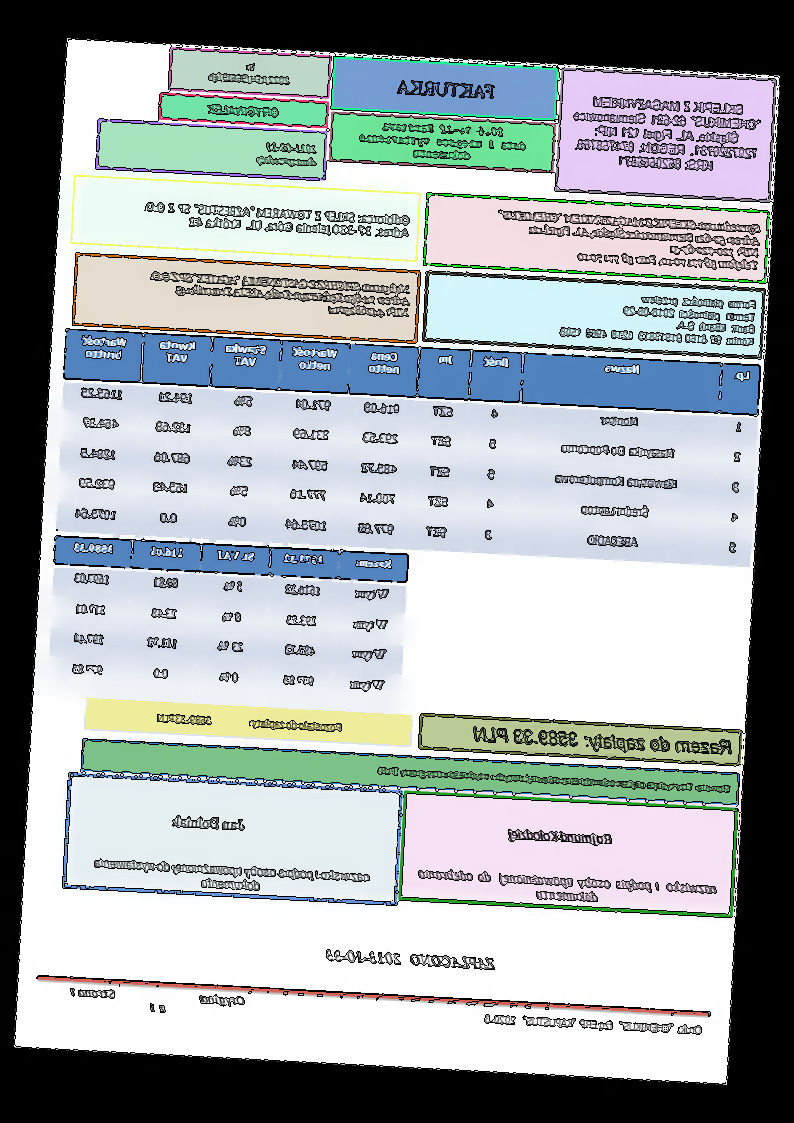Table: (54, 327, 762, 569), (46, 533, 410, 706)
TextBox: (492, 207, 765, 274), (568, 93, 764, 176), (146, 268, 413, 321), (416, 867, 719, 910), (93, 854, 372, 899), (559, 288, 760, 348), (376, 764, 734, 796), (141, 199, 413, 241), (470, 722, 736, 758), (356, 118, 529, 166), (67, 985, 247, 1018), (484, 1011, 704, 1037), (325, 947, 496, 973), (157, 711, 344, 734), (394, 77, 500, 102), (207, 59, 292, 89), (507, 826, 615, 848), (255, 139, 320, 169), (168, 812, 248, 834), (205, 100, 282, 120)
